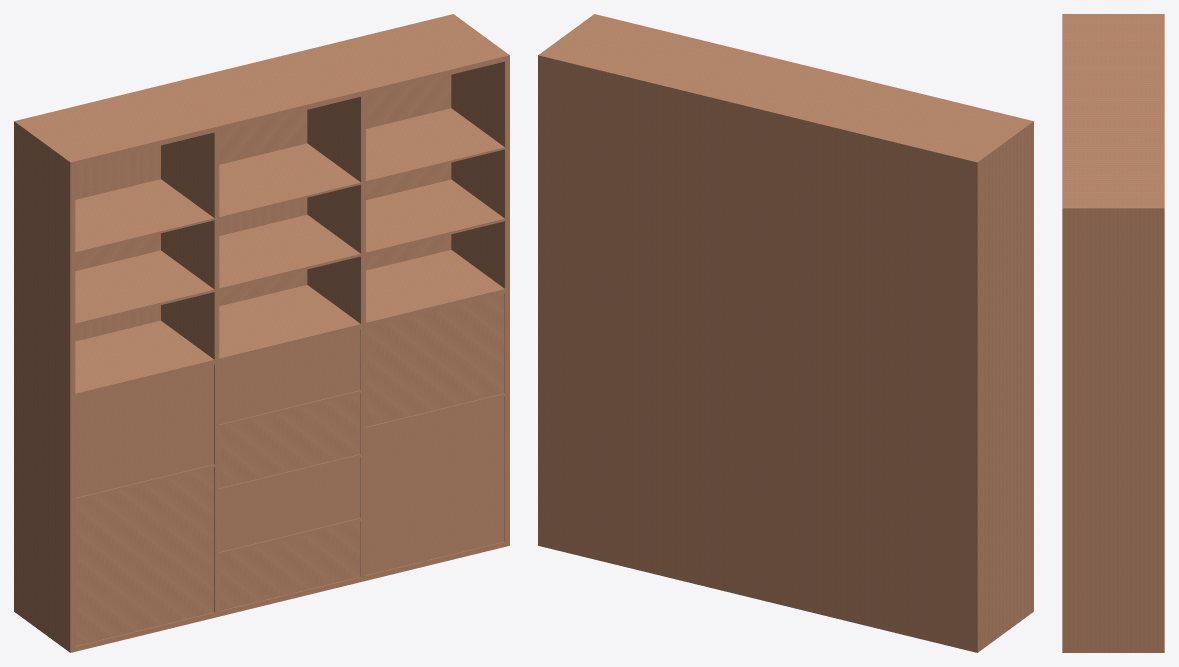
Rendered from IKEA-BESTA_storage_combination_with_doors_drawers-3D.FBX.
The picture shows the model from 3 angles, left to right: view 1: azimuth 30°, elevation 25°; view 2: azimuth 150°, elevation 25°; view 3: azimuth 270°, elevation 25°; orthographic projection. The views are drawn at different scales.
Visible parts, largest first — view 1: Box002; view 2: Box002; view 3: Box002.
Part boxes in pixels (x1,y1,x2,y2): Box002: (14, 14, 509, 652); Box002: (538, 14, 1033, 652); Box002: (1062, 14, 1164, 652).
Bounding box in the file's own units: 1.8 × 0.4 × 1.92.
Materials: 1 (1 with a texture image).
